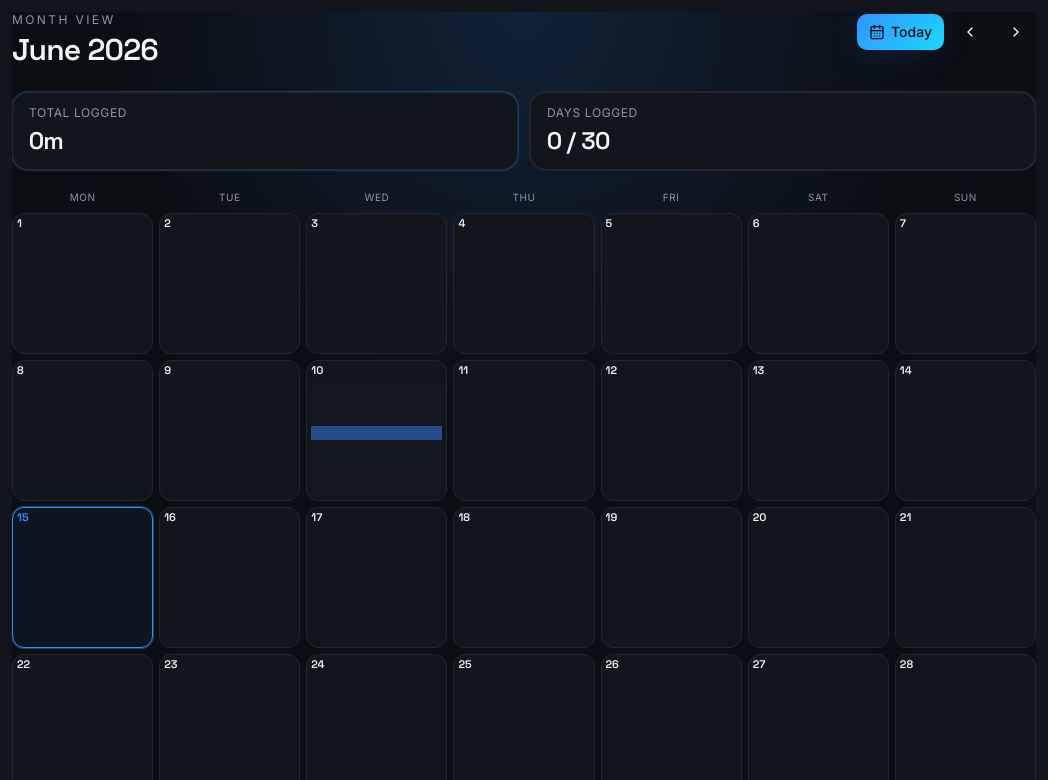
MonthPage › shows a planned schedule tooltip on hover
The image size is (1048, 780).
Hover over the picture named "Planned: Work, 09:00 – 12:00" at (377, 433), box [311,426,442,440]
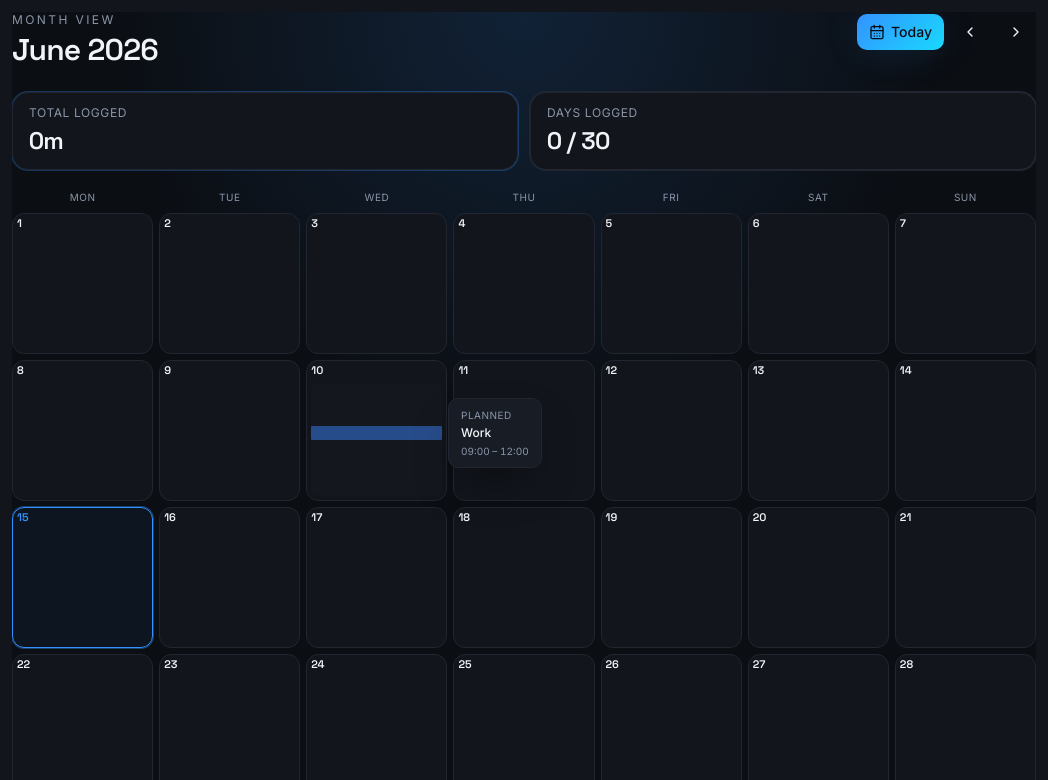
Now the tooltip shows "Planned", box [461,409,512,421]
Now the tooltip shows "Work", box [461,425,491,440]
Now the tooltip shows "9:00", box [461,445,490,457]
